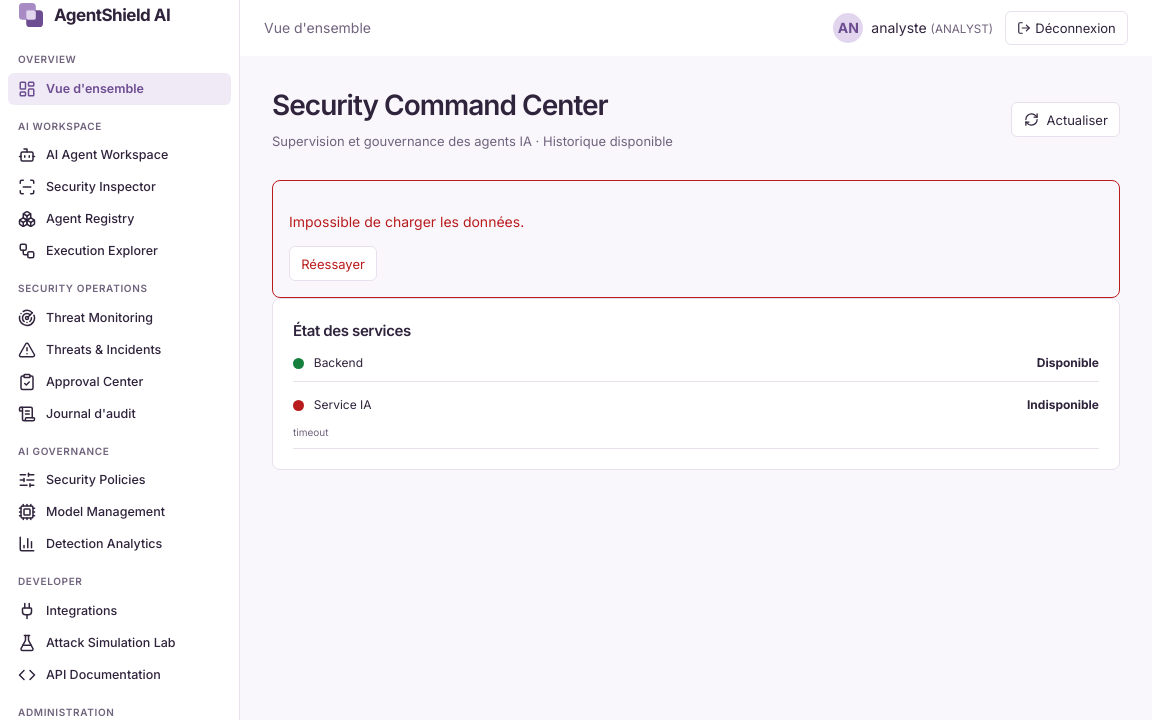
Test: Overview › état Error avec possibilité de réessayer
The image size is (1152, 720).
Check: the message shows "Impossible de charger", box [289,212,524,230]
Click the button "Réessayer".
click(333, 264)  # box [289,246,377,281]
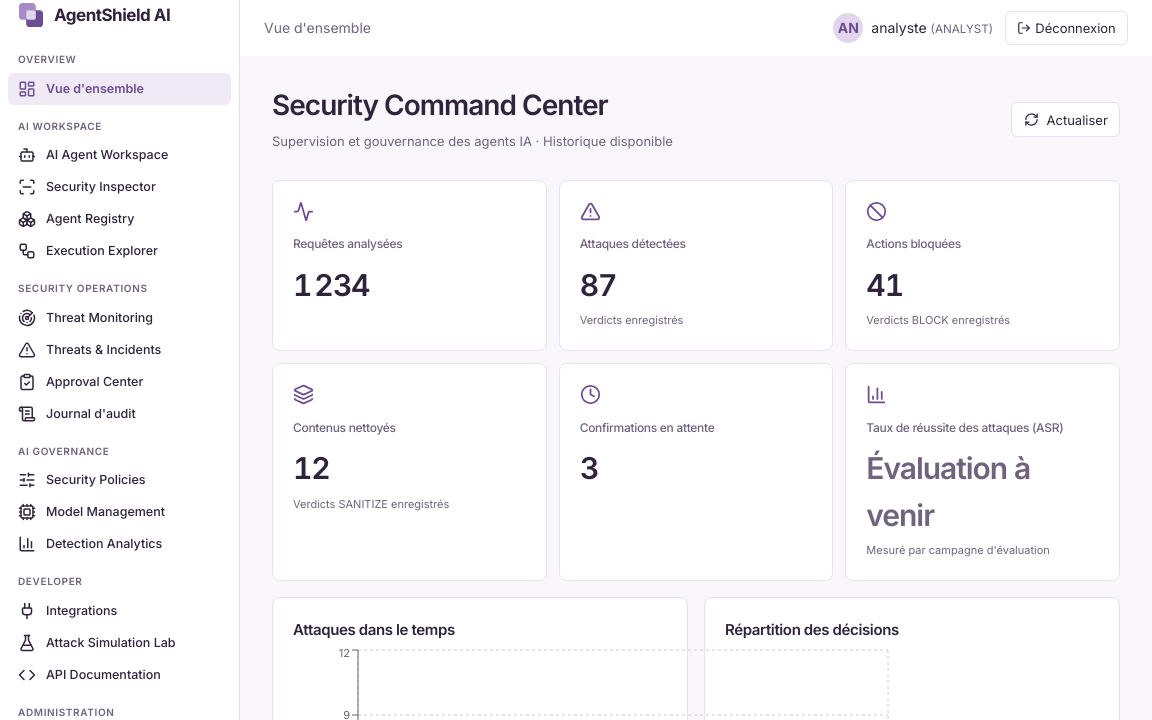
Check: the element "Requêtes analysées" is shown, box [272,180,547,351]
